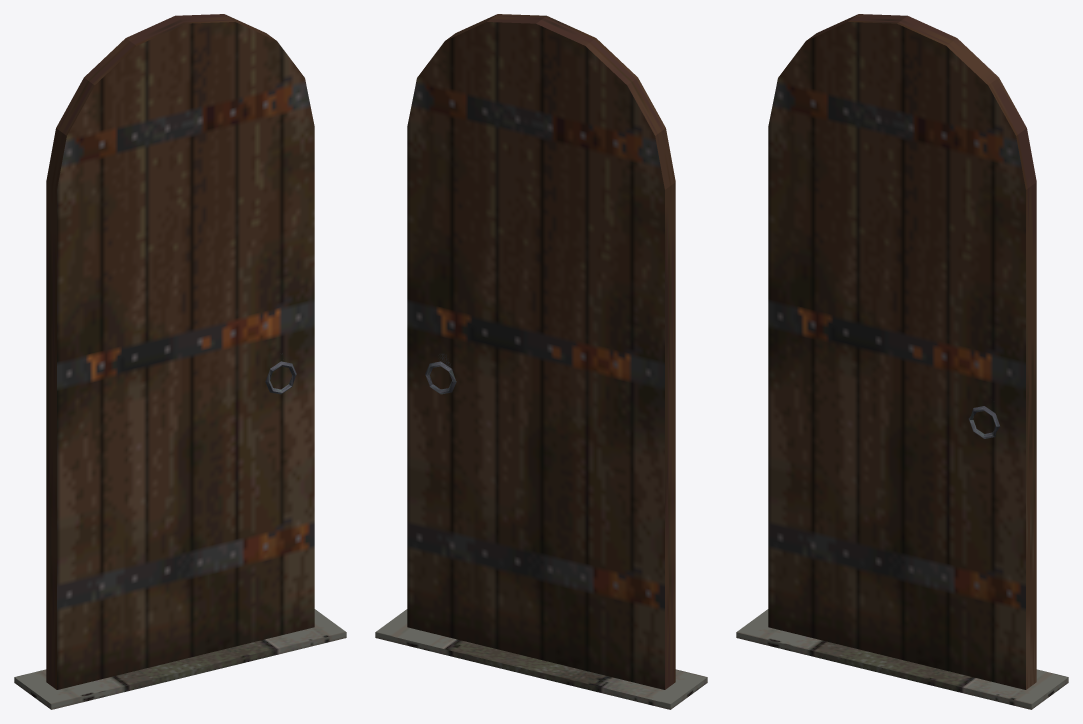
Rendered from door_dungeon.obj.
3 views of the same model, side by side, from view 1: azimuth 30°, elevation 25°; view 2: azimuth 150°, elevation 25°; view 3: azimuth 330°, elevation 25° (orthographic).
Visible parts, largest first — view 1: door_dungeon_leaf, door_dungeon; view 2: door_dungeon_leaf, door_dungeon; view 3: door_dungeon_leaf, door_dungeon.
Boxes of the visible parts, x1=… form: door_dungeon_leaf: x1=46, y1=14, x2=314, y2=689; door_dungeon: x1=14, y1=609, x2=346, y2=709; door_dungeon_leaf: x1=407, y1=14, x2=675, y2=689; door_dungeon: x1=375, y1=609, x2=707, y2=709; door_dungeon_leaf: x1=768, y1=14, x2=1036, y2=689; door_dungeon: x1=736, y1=609, x2=1068, y2=709.
Bounding box in the file's own units: 1.1 × 2.28 × 0.24.
Materials: 1 (1 with a texture image).
